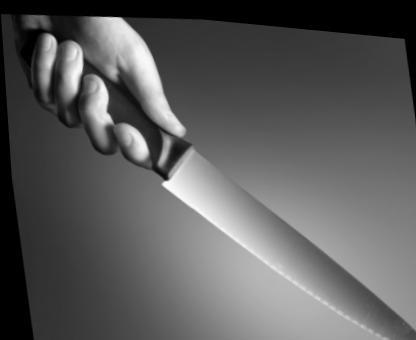knife: (70, 45, 415, 337)
